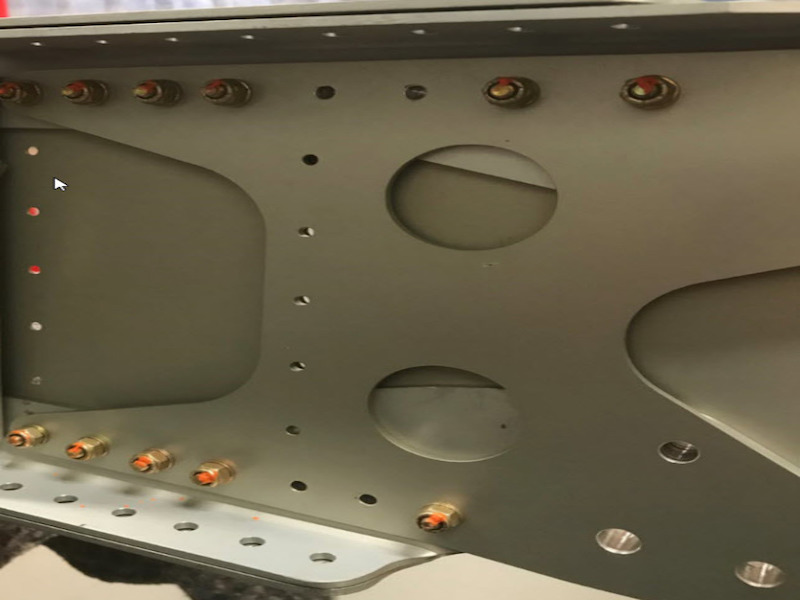bolt: (480, 73, 545, 116), (618, 72, 683, 114), (197, 77, 257, 112), (415, 500, 466, 539), (132, 74, 185, 111), (60, 77, 114, 110), (189, 457, 240, 491), (128, 448, 178, 479), (66, 431, 113, 463), (6, 419, 52, 451), (1, 80, 45, 112)
hole: (732, 556, 791, 593), (594, 523, 645, 560), (654, 435, 701, 469), (309, 547, 340, 570), (172, 517, 202, 537), (402, 81, 429, 102), (237, 534, 268, 552), (313, 83, 338, 102), (52, 490, 79, 507), (111, 503, 138, 520), (359, 490, 380, 509), (1, 480, 24, 496), (296, 226, 319, 241), (289, 477, 307, 495), (301, 153, 320, 168), (293, 293, 312, 307), (285, 422, 301, 438), (289, 360, 307, 374), (28, 263, 42, 276), (27, 206, 42, 218), (32, 321, 45, 334), (26, 145, 39, 158)
